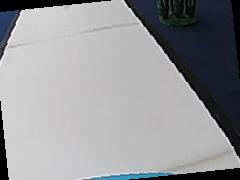corn: (155, 0, 200, 26)
